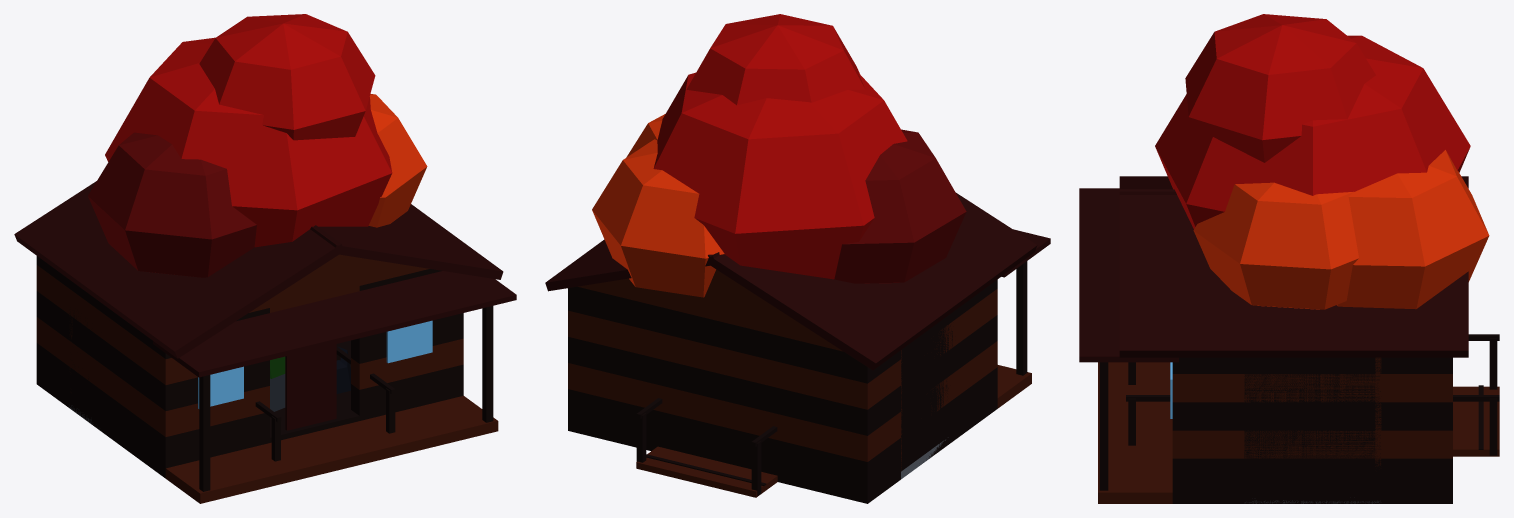
File: mountain_kit.glb
3 renders of one model, left to right at view 1: azimuth 30°, elevation 25°; view 2: azimuth 150°, elevation 25°; view 3: azimuth 270°, elevation 25°, orthographic. The views are drawn at different scales.
Parts seen in each view (by area): view 1: SM_MH_Cabin, SM_MH_Maple, SM_MH_Bridge, SM_MH_BigRock; view 2: SM_MH_Cabin, SM_MH_Maple, SM_MH_Shelter, SM_MH_Bridge; view 3: SM_MH_Cabin, SM_MH_Maple, SM_MH_Shelter, SM_MH_Bridge.
Boxes of the visible parts, left/top/right/bottom form: SM_MH_Cabin: left=14, top=181, right=516, bottom=503; SM_MH_Maple: left=88, top=14, right=427, bottom=277; SM_MH_Bridge: left=255, top=346, right=395, bottom=461; SM_MH_BigRock: left=270, top=346, right=350, bottom=411; SM_MH_Cabin: left=545, top=192, right=1050, bottom=503; SM_MH_Maple: left=592, top=14, right=966, bottom=297; SM_MH_Shelter: left=901, top=316, right=953, bottom=479; SM_MH_Bridge: left=636, top=398, right=777, bottom=497; SM_MH_Cabin: left=1079, top=176, right=1468, bottom=503; SM_MH_Maple: left=1155, top=14, right=1489, bottom=309; SM_MH_Shelter: left=1244, top=357, right=1381, bottom=503; SM_MH_Bridge: left=1126, top=334, right=1499, bottom=456.
Size of the model in its own units: 6.62 by 7.26 by 6.75.
Materials: 12 (12 with a texture image).
